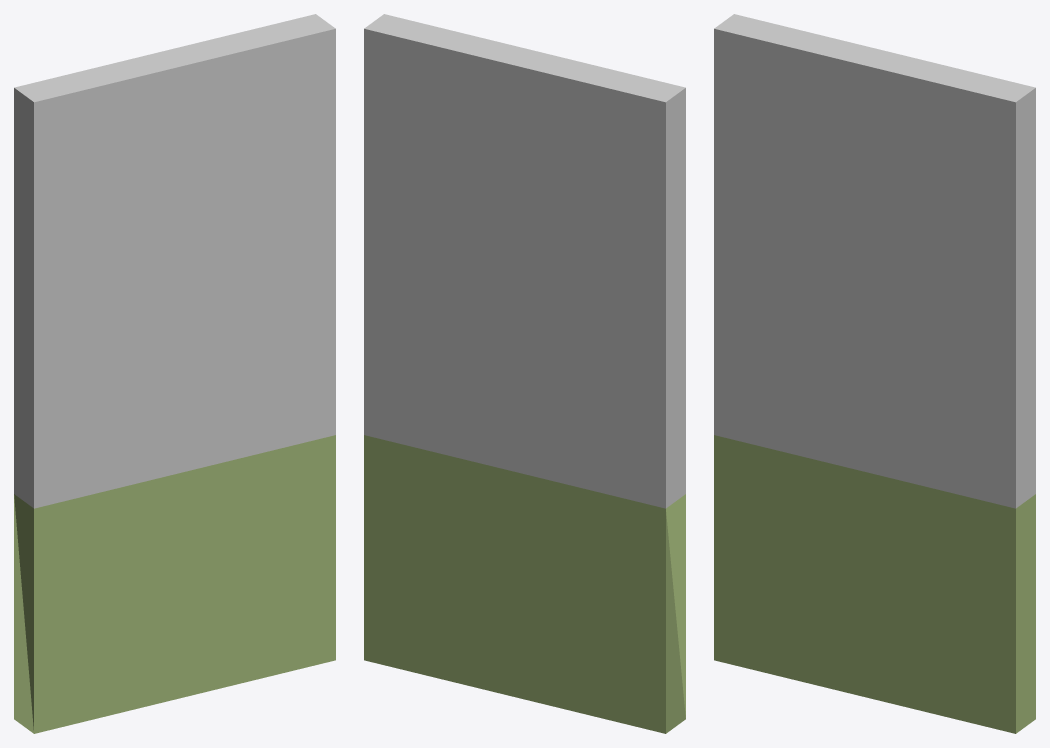
The model's file is Kinder3_ColorWall_Half.fbx.
3 renders of one model, left to right at view 1: azimuth 30°, elevation 25°; view 2: azimuth 150°, elevation 25°; view 3: azimuth 330°, elevation 25°, orthographic.
Parts seen in each view (by area): view 1: WallFloor2_01__6_.004; view 2: WallFloor2_01__6_.004; view 3: WallFloor2_01__6_.004.
Boxes of the visible parts, left/top/right/bottom form: WallFloor2_01__6_.004: left=14, top=14, right=335, bottom=733; WallFloor2_01__6_.004: left=364, top=14, right=685, bottom=733; WallFloor2_01__6_.004: left=714, top=14, right=1035, bottom=733.
Bounding box in the file's own units: 125 × 250 × 14.42.
